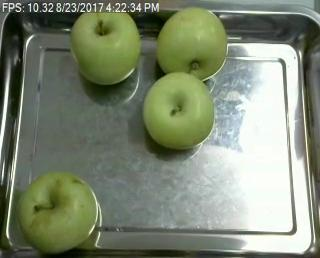fruit: (10, 173, 115, 246), (67, 6, 151, 80), (143, 72, 218, 152), (161, 7, 233, 82)
